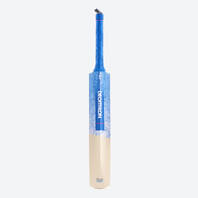bottom left: (80, 176, 100, 193)
bottom right: (106, 175, 122, 192)
top left: (85, 69, 97, 82)
top right: (104, 68, 119, 85)
